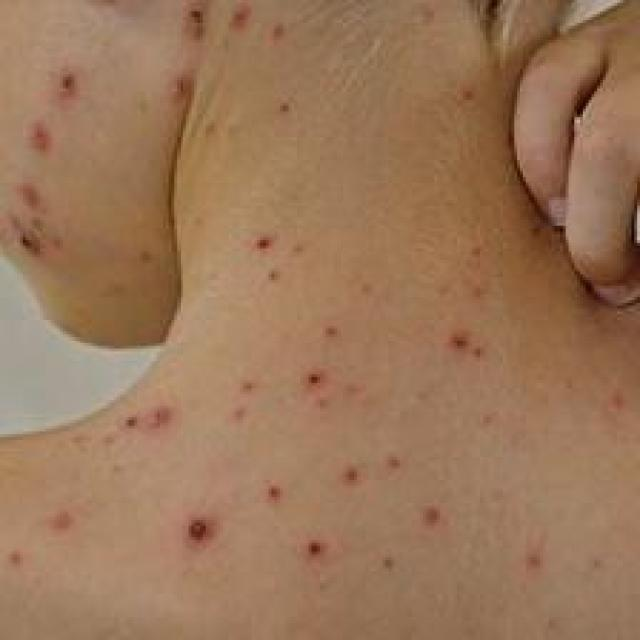others: (0, 12, 582, 640)
